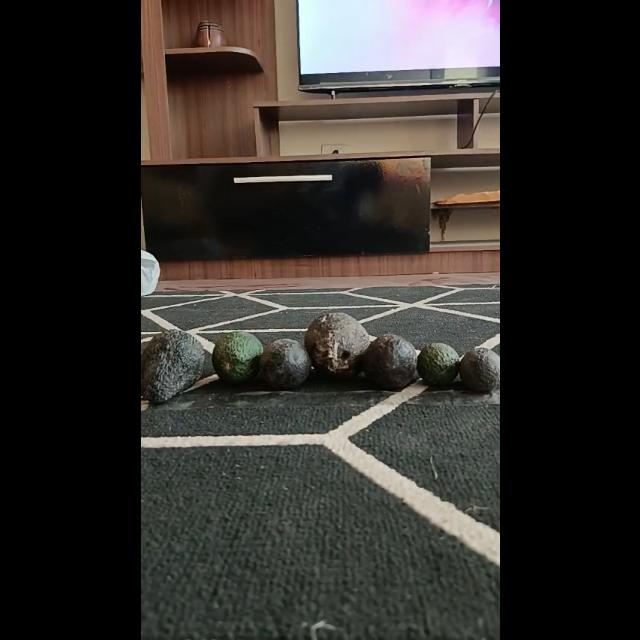Primera: (140, 329, 206, 403), (304, 311, 368, 377)
Segunda: (357, 333, 417, 389), (210, 331, 264, 383), (256, 338, 310, 390)
Tercera: (457, 346, 499, 392), (416, 342, 459, 386)
